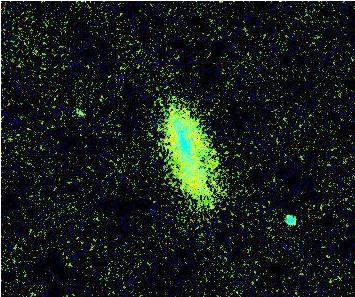star: (198, 166, 228, 196)
